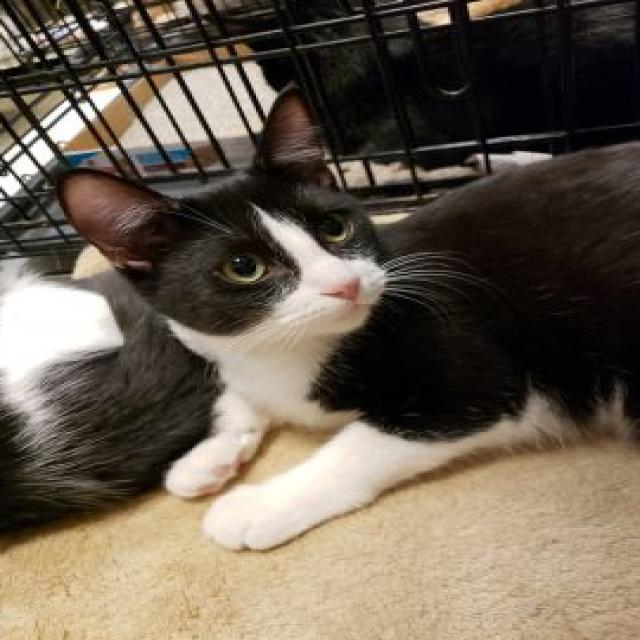Tuxedo: (50, 76, 640, 556)
